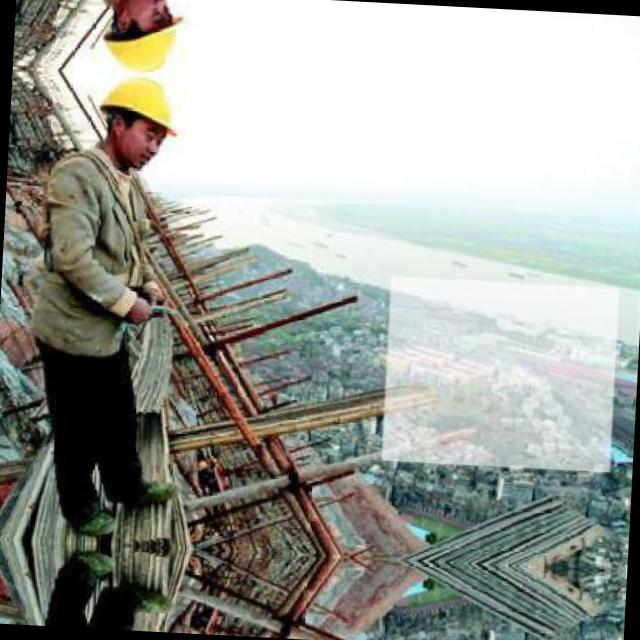helmet: (96, 71, 190, 165), (100, 0, 195, 77)
